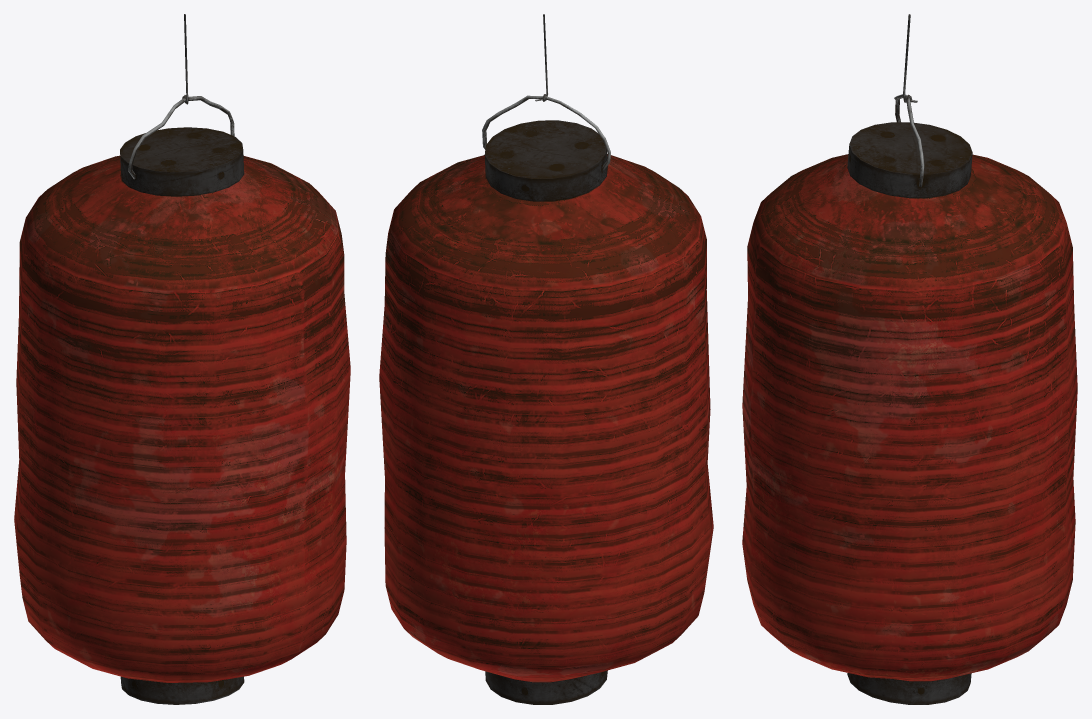
Rendered from Lantern_A.fbx.
3 views of the same model, side by side, from view 1: azimuth 30°, elevation 25°; view 2: azimuth 150°, elevation 25°; view 3: azimuth 270°, elevation 25° (orthographic).
Parts seen in each view (by area): view 1: Lantern_A; view 2: Lantern_A; view 3: Lantern_A.
Boxes of the visible parts, bbox=[...] form: Lantern_A: bbox=[14, 14, 350, 704]; Lantern_A: bbox=[379, 14, 713, 704]; Lantern_A: bbox=[742, 14, 1077, 704].
Size of the model in its own units: 46.76 by 102 by 46.31.
Materials: 1 (1 with a texture image).
